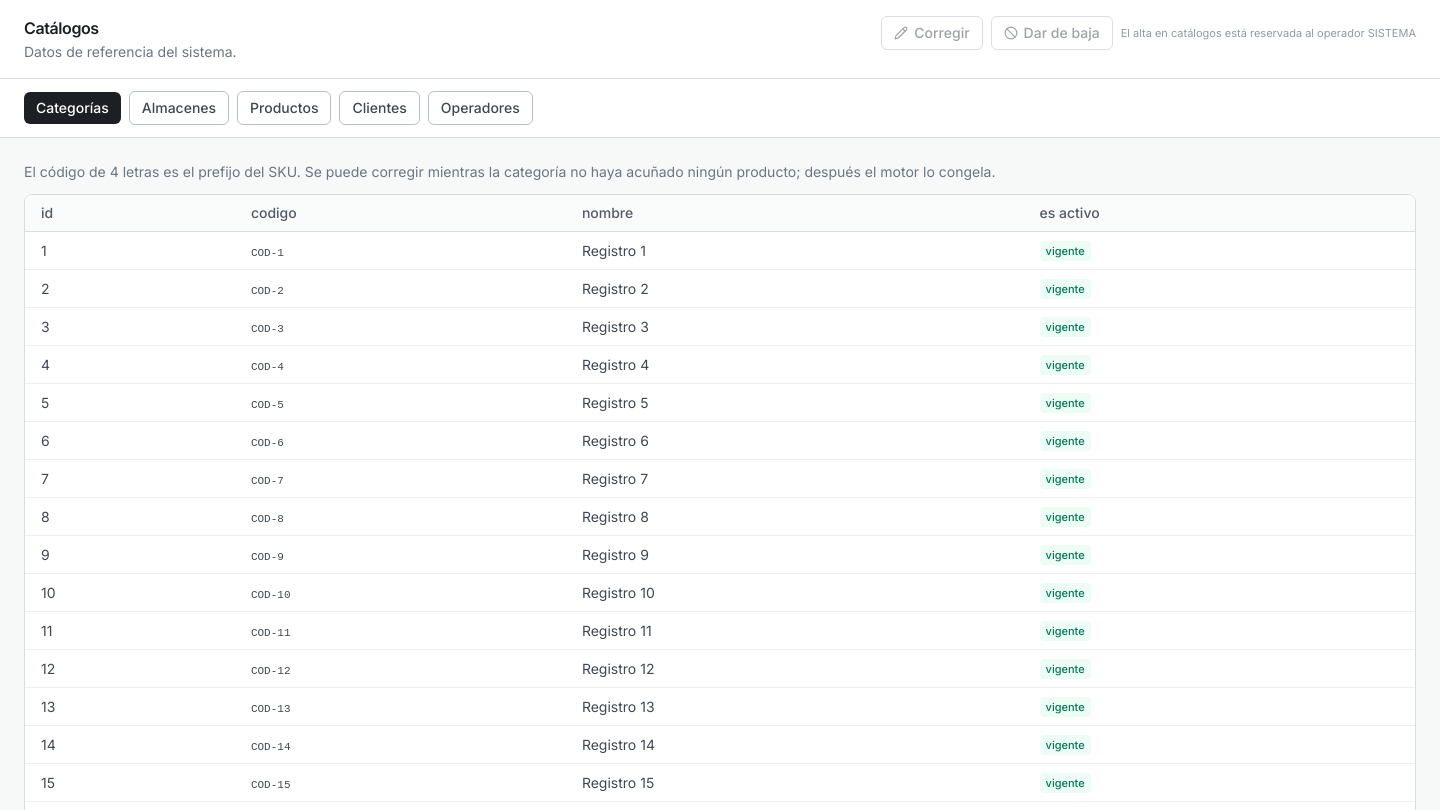
Test case: Catalogos - corregir un registro › corregir NO exige ser el operador SISTEMA
The width and height of the screenshot is (1440, 810).
Expected: the button "Corregir" is disabled, [881,16,983,50]
Click the text "Registro 1" at x=614, y=250, box [566,232,1024,270]
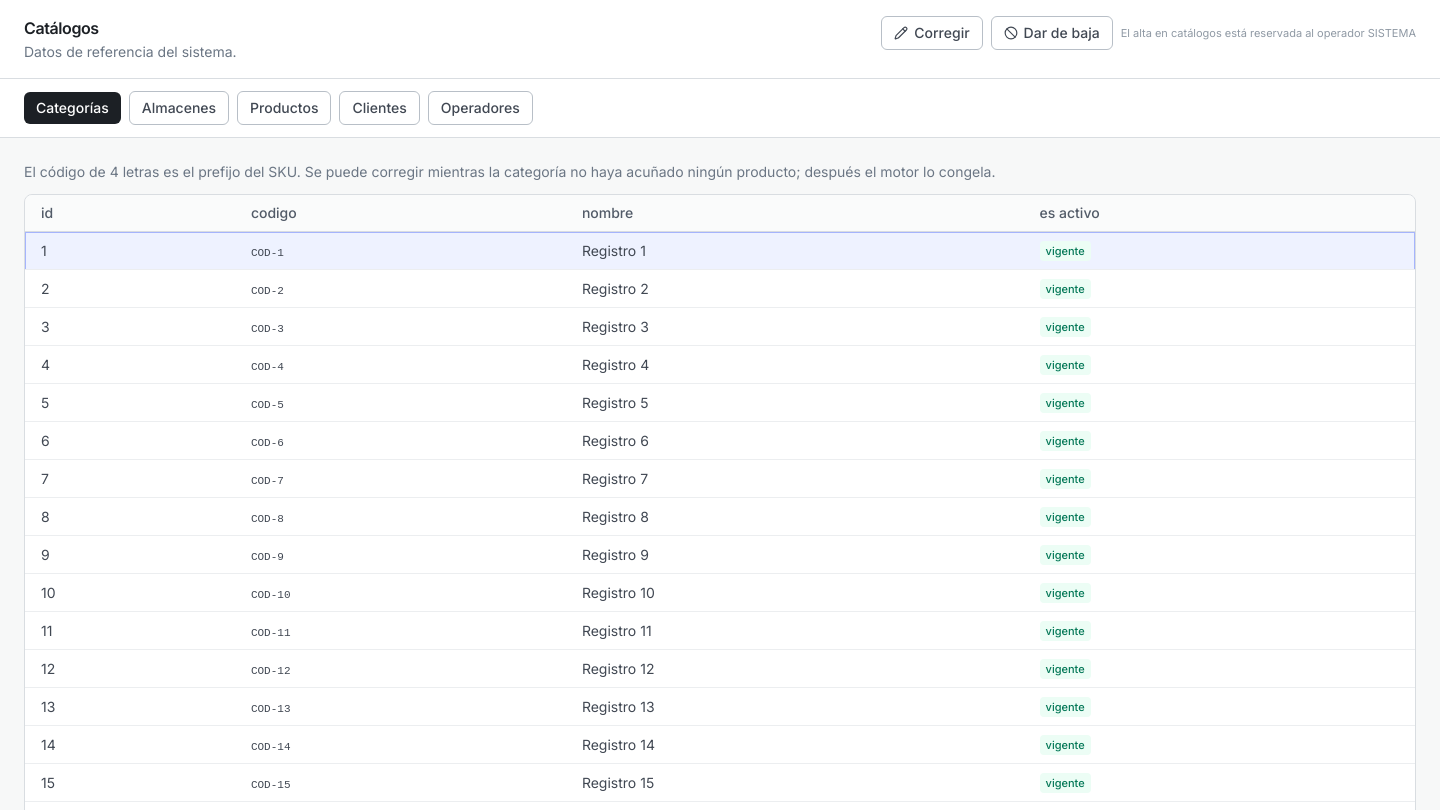
Result: the button "Corregir" is enabled at [881,16,983,50]
